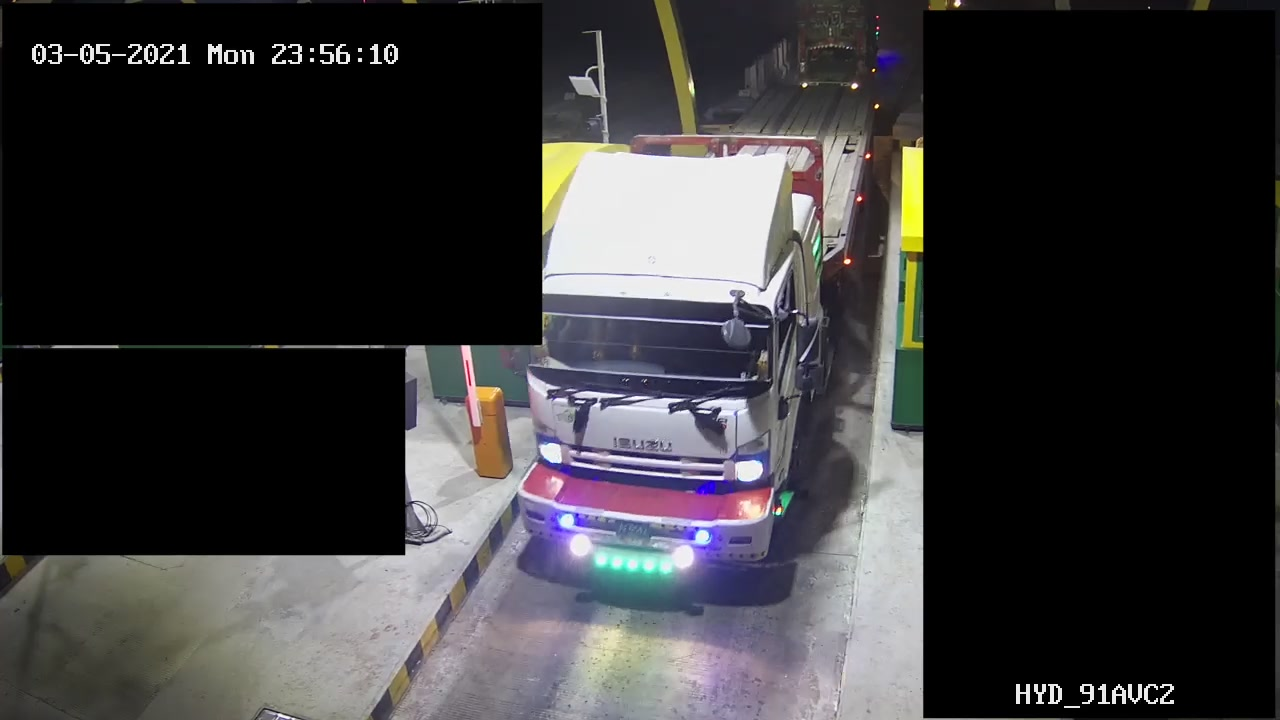F6: (510, 77, 879, 600)
